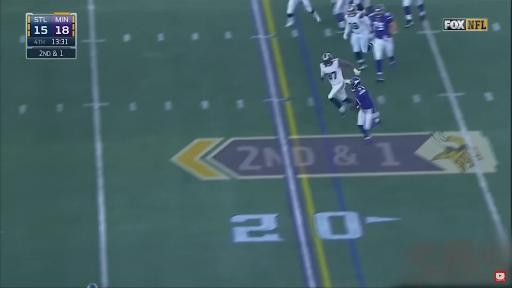Helmet: (350, 77, 361, 91), (347, 4, 358, 16), (374, 4, 385, 16), (323, 53, 332, 65), (88, 284, 97, 287)
Jersey: (320, 59, 344, 85), (369, 13, 393, 38), (345, 12, 370, 34), (354, 86, 374, 109)
Player: (320, 53, 360, 117), (369, 5, 397, 81), (350, 77, 380, 143), (344, 4, 370, 69), (286, 0, 321, 27), (402, 0, 426, 27), (333, 0, 349, 31), (88, 284, 97, 287)
